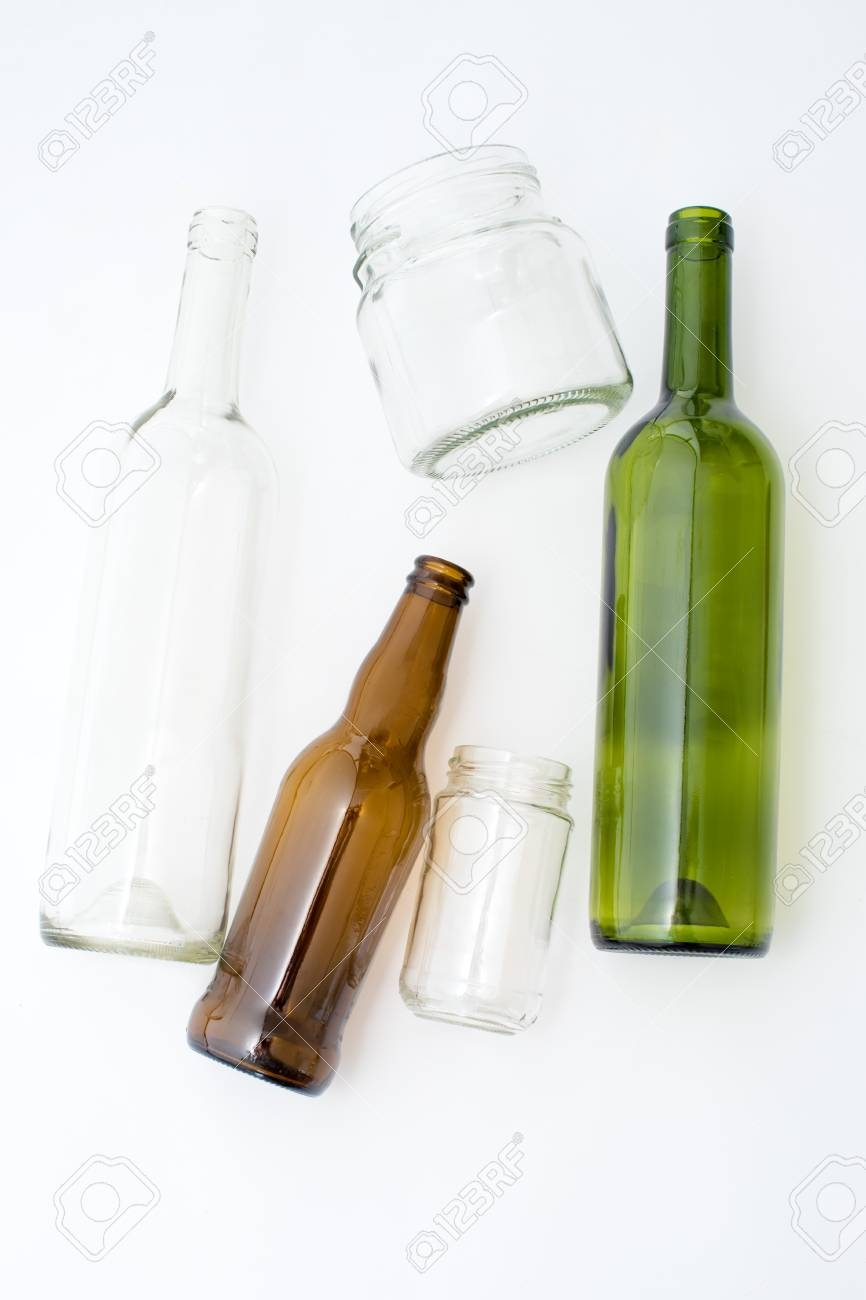glass: (28, 184, 263, 968), (182, 523, 478, 1107), (594, 183, 796, 979), (329, 138, 656, 490), (387, 730, 596, 1041)
